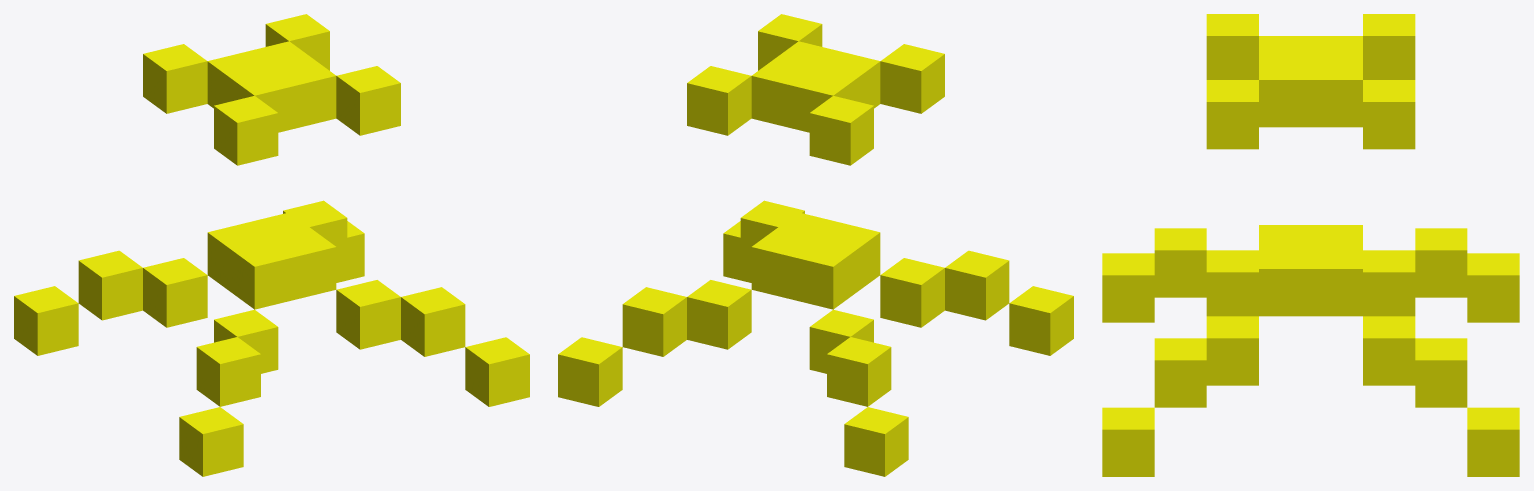
Rendered from Terminal1-1.obj.
3 views of the same model, side by side, from view 1: azimuth 30°, elevation 25°; view 2: azimuth 150°, elevation 25°; view 3: azimuth 270°, elevation 25° (orthographic). The views are drawn at different scales.
Size of the model in its own units: 0.8 by 0.7 by 0.8.
1 material, 1 textured.
